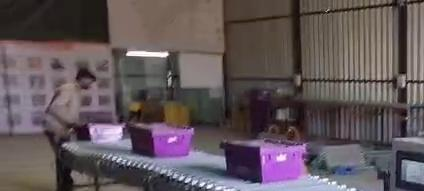box: (220, 140, 305, 182), (128, 124, 193, 157), (74, 124, 123, 143), (386, 180, 390, 180)
